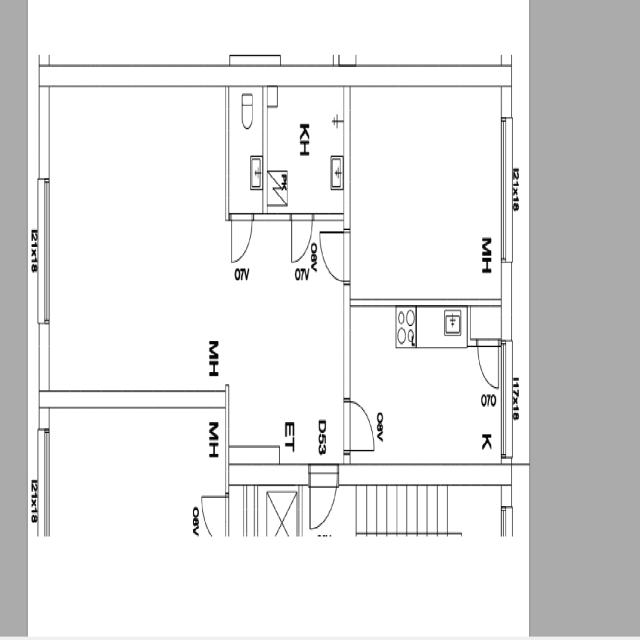door: (290, 215, 345, 279), (342, 392, 380, 461), (306, 462, 339, 538), (316, 222, 349, 285), (288, 208, 316, 270), (228, 209, 255, 269), (198, 491, 230, 541), (476, 335, 502, 392)
window: (37, 176, 54, 329), (40, 425, 52, 538)
zone: (45, 81, 230, 396), (346, 81, 504, 334), (348, 332, 500, 467), (263, 84, 345, 215), (284, 209, 345, 285), (228, 86, 264, 212)
